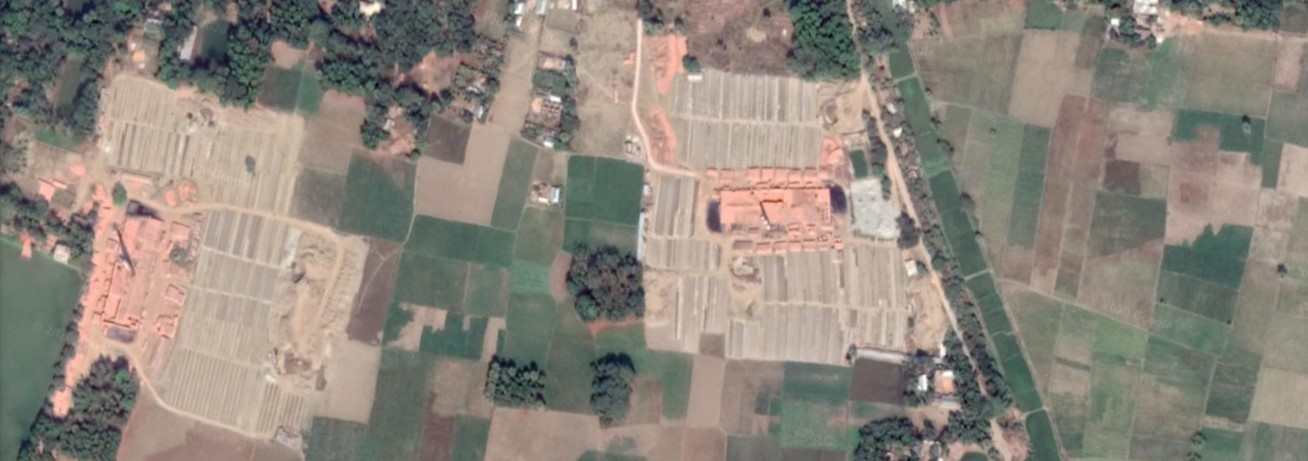kiln: (95, 220, 178, 337), (711, 181, 838, 240)
